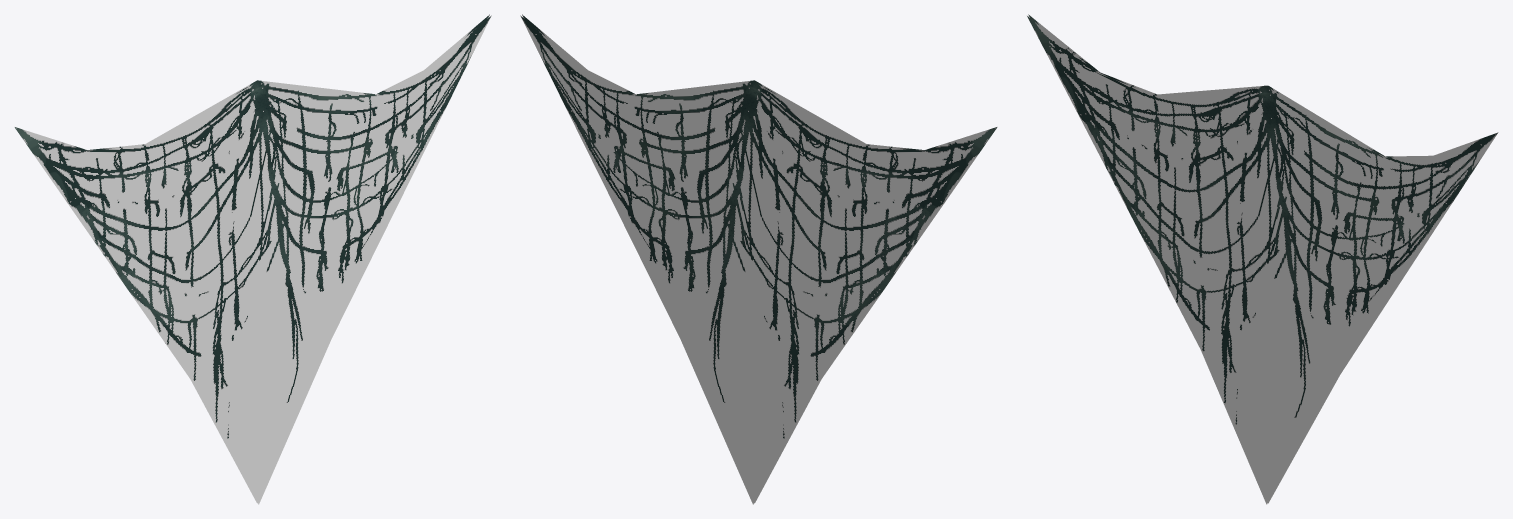
The model's file is Fish_net07.fbx.
3 views of the same model, side by side, from view 1: azimuth 30°, elevation 25°; view 2: azimuth 150°, elevation 25°; view 3: azimuth 330°, elevation 25° (orthographic).
Parts seen in each view (by area): view 1: Fish_net07; view 2: Fish_net07; view 3: Fish_net07.
Boxes of the visible parts, x1=… form: Fish_net07: x1=14, y1=14, x2=491, y2=504; Fish_net07: x1=520, y1=14, x2=997, y2=504; Fish_net07: x1=1027, y1=14, x2=1498, y2=504.
Bounding box in the file's own units: 3.31 × 2.9 × 0.0187.
1 material, 1 textured.
